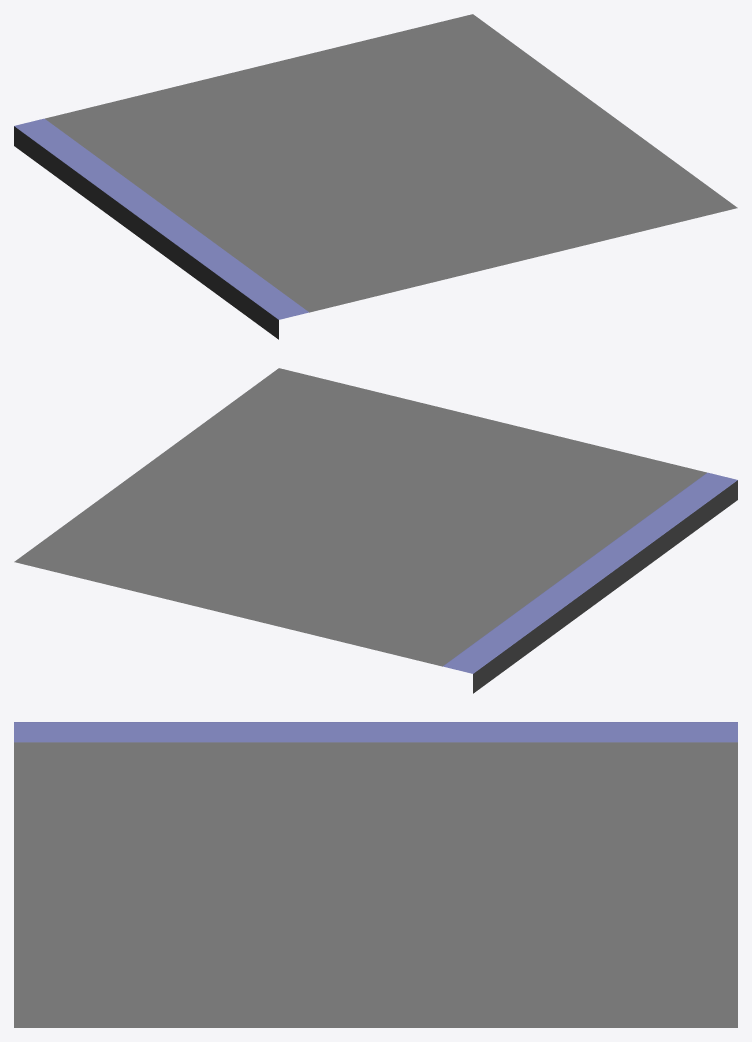
File: W_M_maze_001_4x5_Bottom_L0.fbx
3 renders of one model, top to bottom at view 1: azimuth 30°, elevation 25°; view 2: azimuth 150°, elevation 25°; view 3: azimuth 270°, elevation 25°, orthographic. The views are drawn at different scales.
Parts seen in each view (by area): view 1: W_M_maze_001_4x5_Bottom_L0; view 2: W_M_maze_001_4x5_Bottom_L0; view 3: W_M_maze_001_4x5_Bottom_L0.
Boxes of the visible parts, <box> form: W_M_maze_001_4x5_Bottom_L0: <box>14,14,737,339</box>; W_M_maze_001_4x5_Bottom_L0: <box>14,368,737,693</box>; W_M_maze_001_4x5_Bottom_L0: <box>14,722,737,1027</box>.
Bounding box in the file's own units: 5 × 0.2081 × 5.
